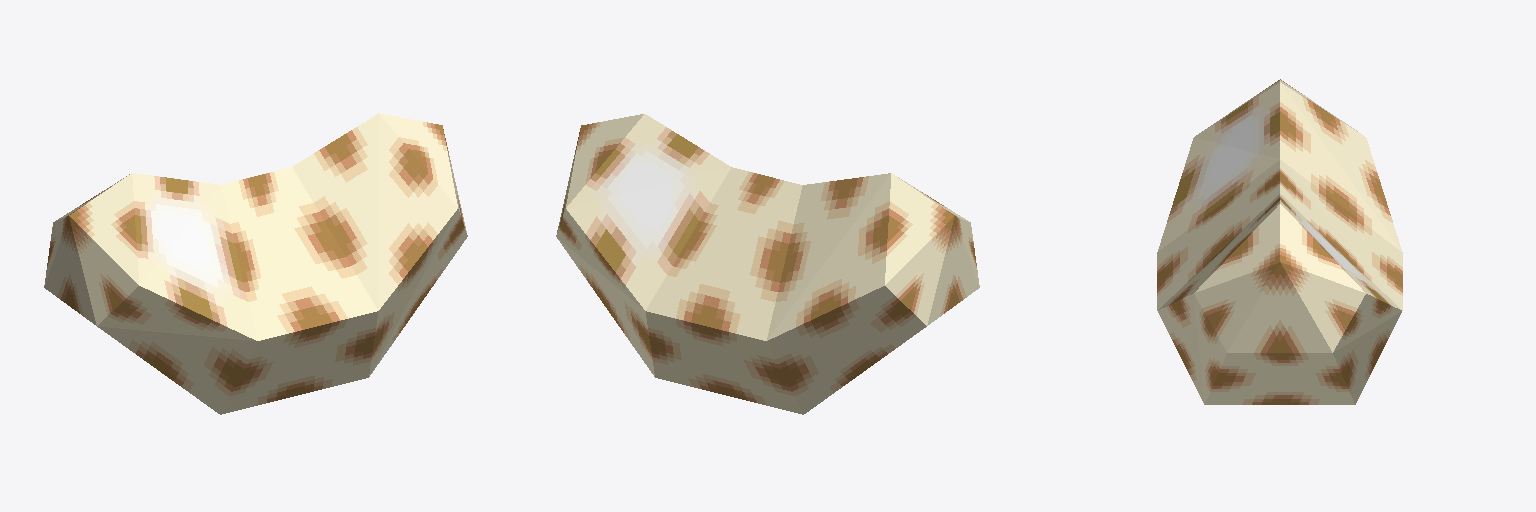
3 views of the same model, side by side, from view 1: azimuth 30°, elevation 25°; view 2: azimuth 150°, elevation 25°; view 3: azimuth 270°, elevation 25° (orthographic).
Visible parts, largest first — view 1: T1L8M008_34; view 2: T1L8M008_34; view 3: T1L8M008_34.
Boxes of the visible parts, x1=… form: T1L8M008_34: x1=44, y1=113, x2=467, y2=414; T1L8M008_34: x1=556, y1=114, x2=979, y2=414; T1L8M008_34: x1=1157, y1=79, x2=1402, y2=404.
Bounding box in the file's own units: 0.5547 × 0.3213 × 0.3154.
1 materials, 1 textured.